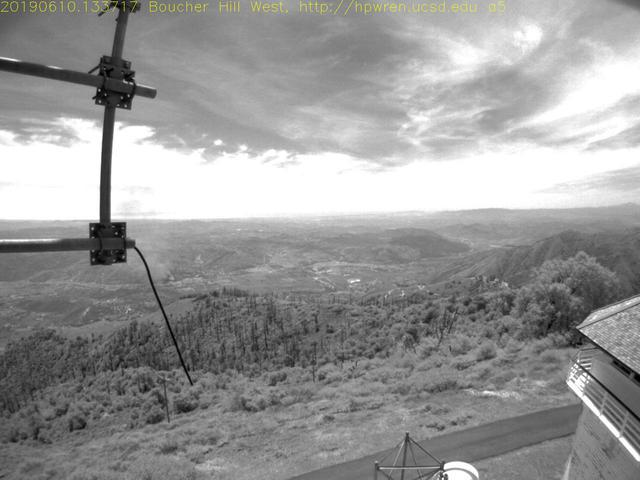smoke: (121, 179, 183, 287)
